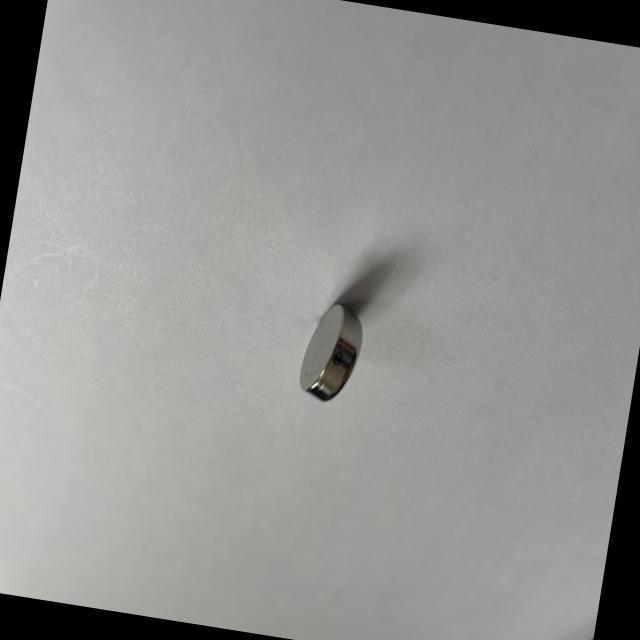COIN: (294, 294, 368, 410)
